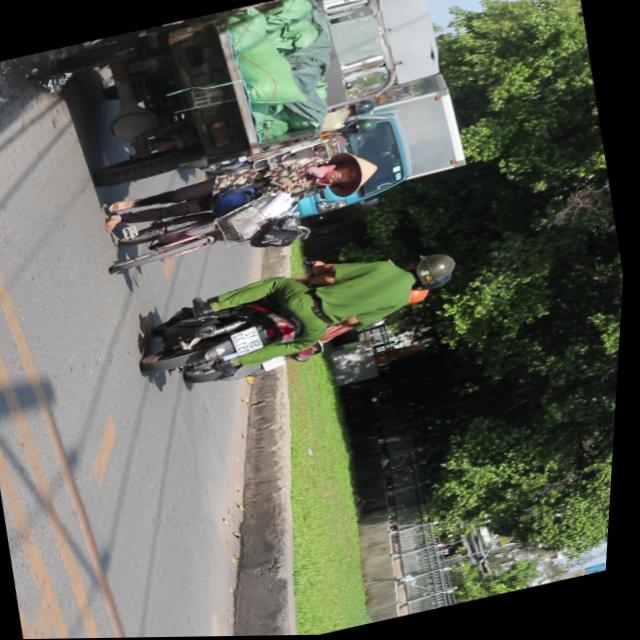helmet: (403, 246, 463, 289), (414, 270, 461, 294), (349, 97, 381, 118)
licenseplate: (130, 233, 477, 402)
nohelmet: (235, 327, 269, 357)
